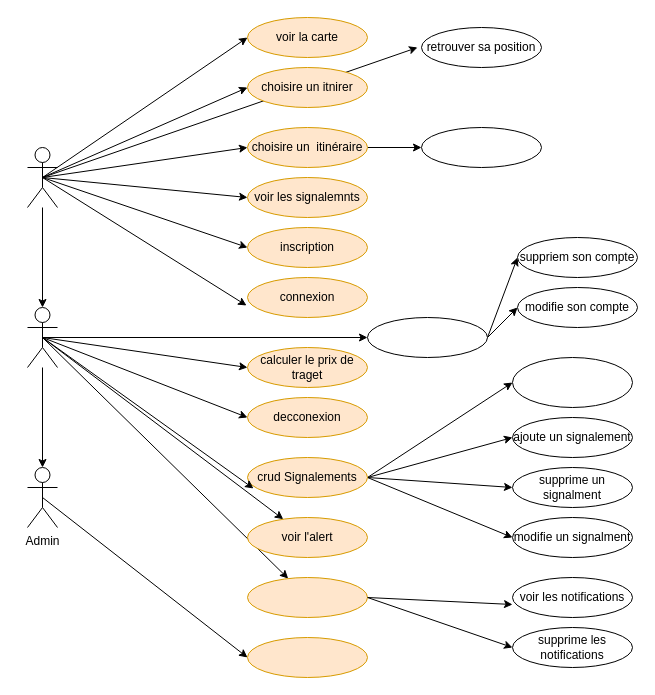
Some shapes in this 655 by 695 pixel diagram are drawn without their labels. Here are the shapes that lost their labels. From the top down, the centre of each, then its label:
point (481, 147): filtre un itineraire
point (42, 177): visiteur
point (42, 337): utilisateur
point (427, 337): utilisateur crud
point (572, 382): valide un signalment de un autre utilisateur
point (307, 597): notification
point (307, 657): valide un signalment
